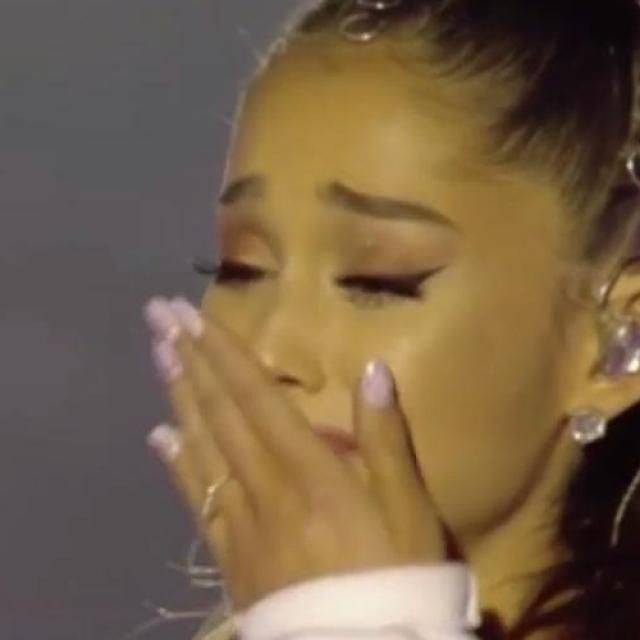Depress: (197, 35, 578, 557)
